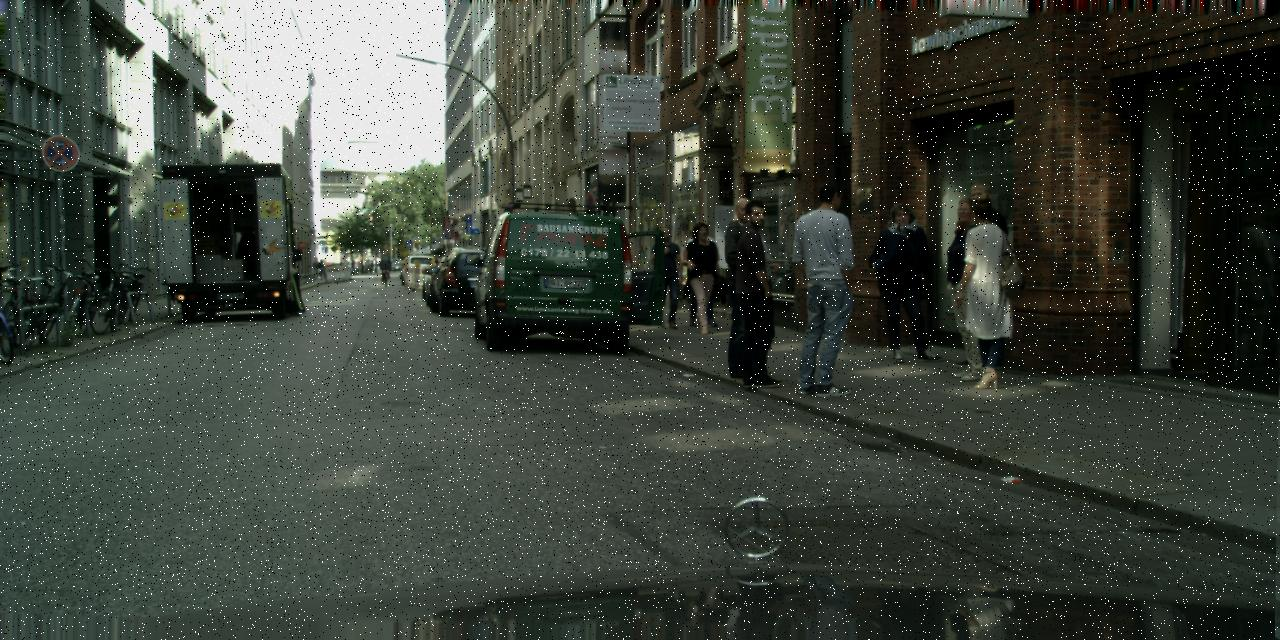ped: (778, 182, 866, 396), (946, 194, 1025, 388), (714, 200, 790, 388), (943, 183, 1019, 368), (706, 196, 780, 378), (929, 197, 1002, 377), (873, 203, 938, 362), (679, 222, 722, 329), (646, 226, 687, 328), (681, 225, 722, 326), (278, 250, 303, 314), (379, 253, 390, 279), (316, 258, 325, 280), (312, 257, 320, 278)
